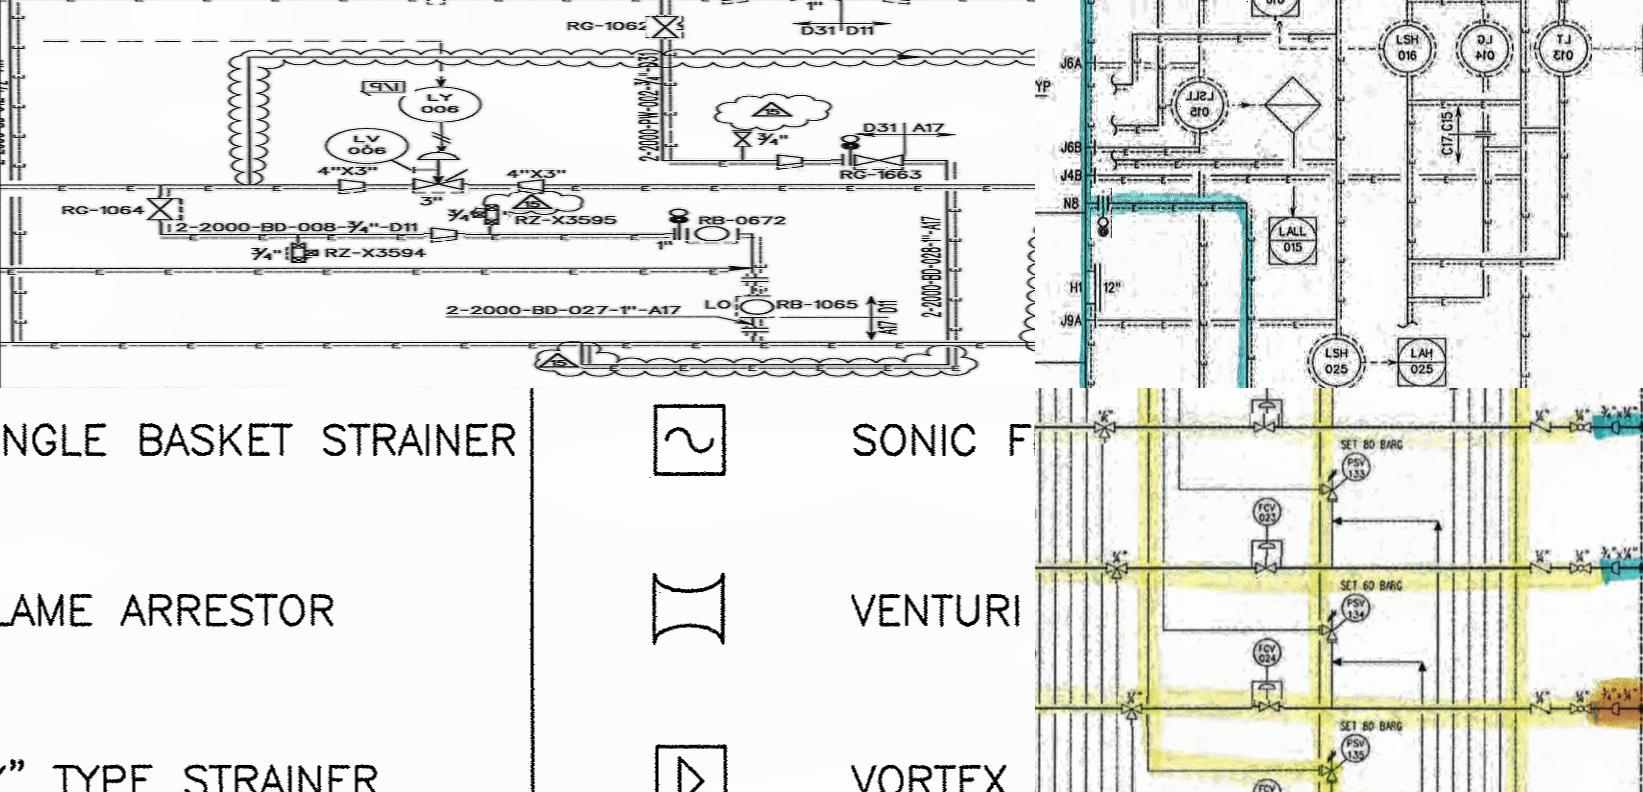2 WAY VALVE: (285, 239, 324, 265), (473, 205, 510, 225)
3 WAY GENERAL VALVE: (1088, 414, 1120, 443), (1117, 697, 1148, 726), (1103, 553, 1133, 584)
ANGLE RELIEF VALVE: (1313, 462, 1341, 506), (1315, 608, 1342, 650), (1314, 750, 1339, 791)
CONCENTRIC REDUCER: (423, 225, 465, 244), (332, 177, 369, 194), (510, 177, 549, 193), (774, 152, 808, 170)
DCS ACCESSIBLE: (1263, 208, 1326, 271), (1392, 330, 1451, 388), (1246, 0, 1311, 21)
DIAPHRAGM ACTUATED VALVE: (412, 151, 469, 195)
END CAP: (1605, 553, 1624, 579), (1255, 395, 1283, 413), (1607, 696, 1625, 722), (1254, 537, 1281, 553), (1609, 417, 1626, 442), (1255, 678, 1280, 692)
END FLANGED: (730, 273, 779, 286), (733, 326, 776, 336), (1477, 123, 1496, 144)
FIELD INSTRUMENT: (1167, 76, 1232, 146), (1531, 19, 1592, 78), (1308, 330, 1370, 388), (1454, 19, 1514, 78), (1381, 18, 1438, 80), (323, 128, 412, 166), (398, 87, 484, 124), (1247, 638, 1287, 673), (1249, 491, 1286, 528), (1340, 592, 1378, 624), (1341, 730, 1374, 766), (732, 293, 777, 316), (1342, 450, 1373, 484), (694, 225, 732, 244), (1248, 775, 1284, 792)
GATE VALVE: (852, 154, 912, 170), (146, 196, 181, 222), (645, 15, 681, 39), (1249, 413, 1281, 434), (1253, 556, 1284, 578), (724, 130, 758, 148), (1253, 700, 1284, 719)
GLOBE VALVE: (1563, 553, 1597, 578), (1563, 414, 1598, 437), (1568, 696, 1597, 719)
HARDWIRED INTERLOCK PRIMARY.: (1263, 74, 1327, 133)
IP CONVERTER: (360, 76, 416, 95)
REVISION TRIANGLE: (532, 350, 583, 374), (509, 193, 558, 211), (749, 100, 794, 118)
SONIC FLOWMETER: (648, 397, 732, 482)
SPECTACLE BLIND CLOSED: (664, 205, 696, 244), (832, 131, 864, 166)
SPECTACLE BLIND OPEN: (1091, 188, 1112, 238)
VENTURI TUBE: (645, 566, 735, 651)
VORTEX SENSOR: (648, 738, 733, 792)
